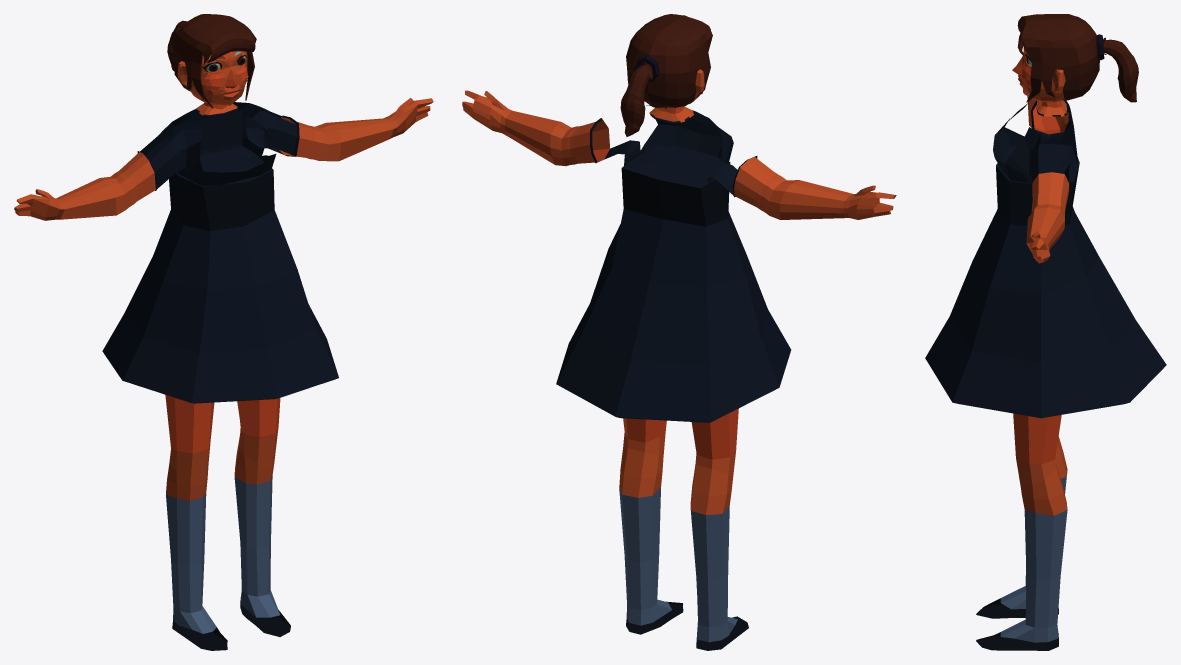
The model's file is Claire_3D_Model.obj.
3 renders of one model, left to right at view 1: azimuth 30°, elevation 25°; view 2: azimuth 150°, elevation 25°; view 3: azimuth 270°, elevation 25°, orthographic. The views are drawn at different scales.
Parts seen in each view (by area): view 1: body_mesh_Cylinder, skirt_Cylinder.002; view 2: skirt_Cylinder.002, body_mesh_Cylinder; view 3: skirt_Cylinder.002, body_mesh_Cylinder.
Part boxes in pixels (x1,y1,x2,y2): body_mesh_Cylinder: [14, 14, 433, 650]; skirt_Cylinder.002: [102, 147, 338, 403]; skirt_Cylinder.002: [556, 145, 791, 422]; body_mesh_Cylinder: [462, 14, 896, 650]; skirt_Cylinder.002: [925, 144, 1166, 418]; body_mesh_Cylinder: [976, 14, 1138, 650].
Size of the model in its own units: 3.83 by 5.23 by 1.88.
